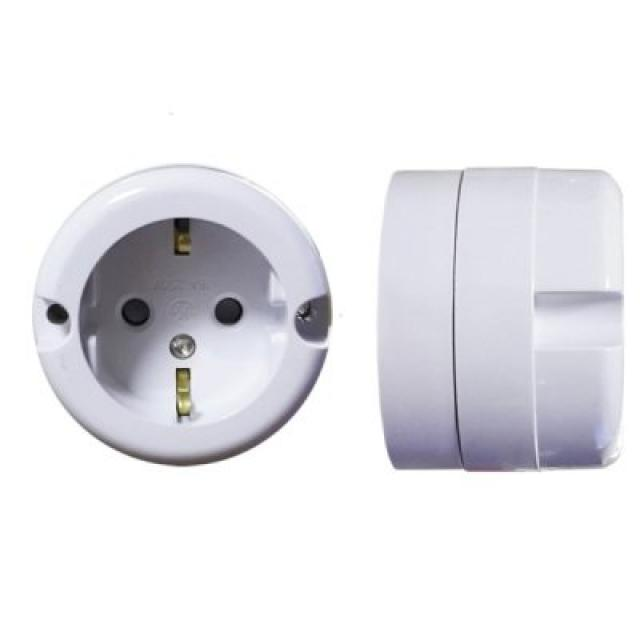typeb: (4, 138, 340, 498)
